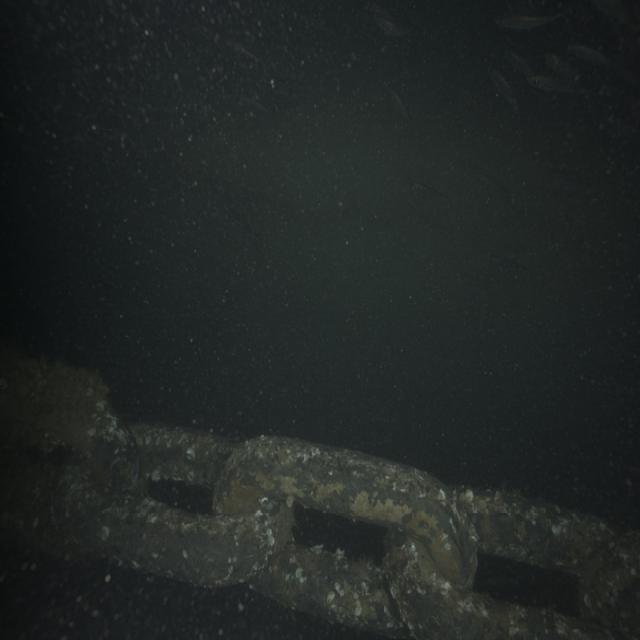ChainLink: (214, 438, 476, 587), (454, 489, 640, 638), (55, 468, 291, 585), (385, 532, 612, 639), (0, 357, 140, 490), (250, 544, 409, 638), (0, 410, 88, 559), (130, 426, 234, 486)
